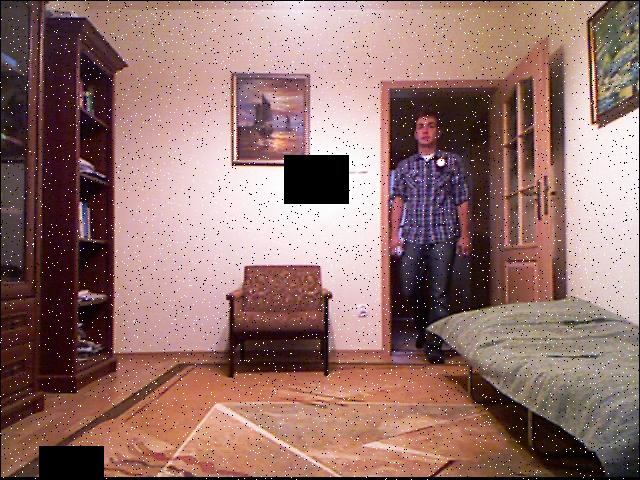walking: (389, 108, 474, 373)
